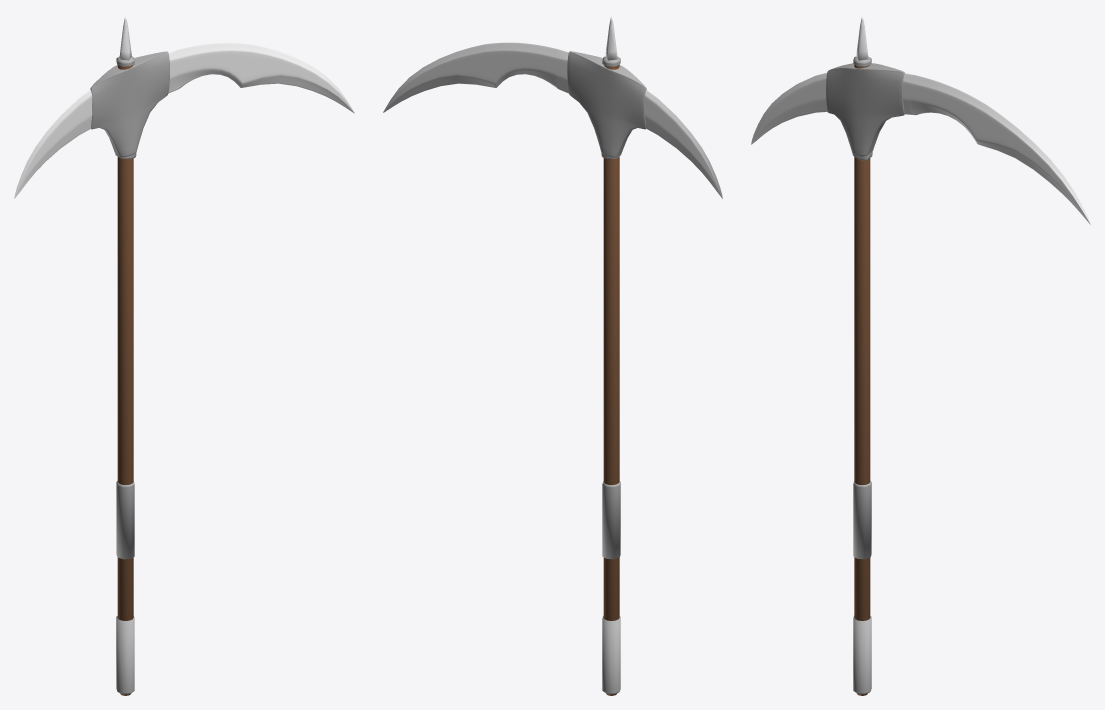
File: Scythe.fbx
3 renders of one model, left to right at view 1: azimuth 30°, elevation 25°; view 2: azimuth 150°, elevation 25°; view 3: azimuth 330°, elevation 25°, orthographic.
Visible parts, largest first — view 1: Scythe; view 2: Scythe; view 3: Scythe.
Boxes of the visible parts, x1,y1,x2,y2 form: Scythe: [14, 15, 354, 695]; Scythe: [383, 14, 722, 695]; Scythe: [751, 14, 1090, 695].
Bounding box in the file's own units: 495 × 946 × 24.
